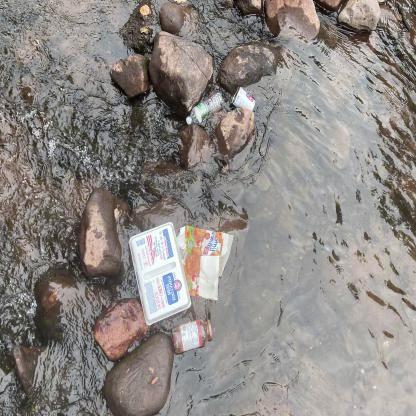Glass: (168, 316, 214, 356)
Metal: (230, 85, 256, 116)
Plastic: (184, 90, 227, 129)
